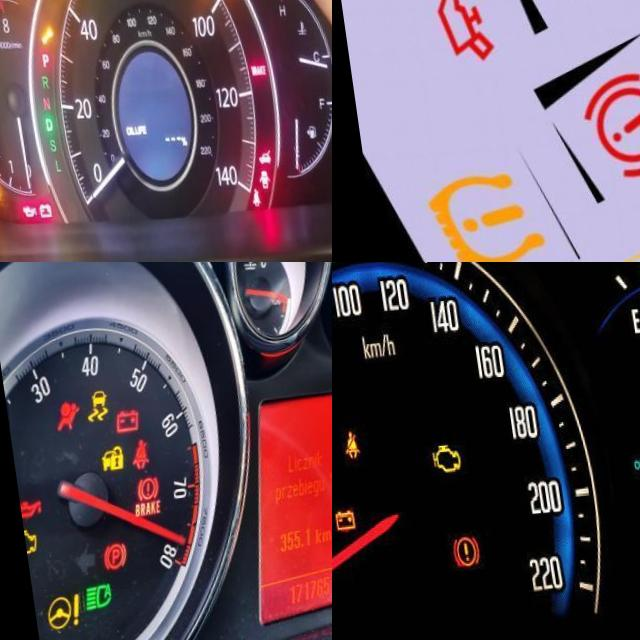Electronic Power Steering: (30, 590, 73, 631)
Seat Belt: (122, 442, 143, 473)
